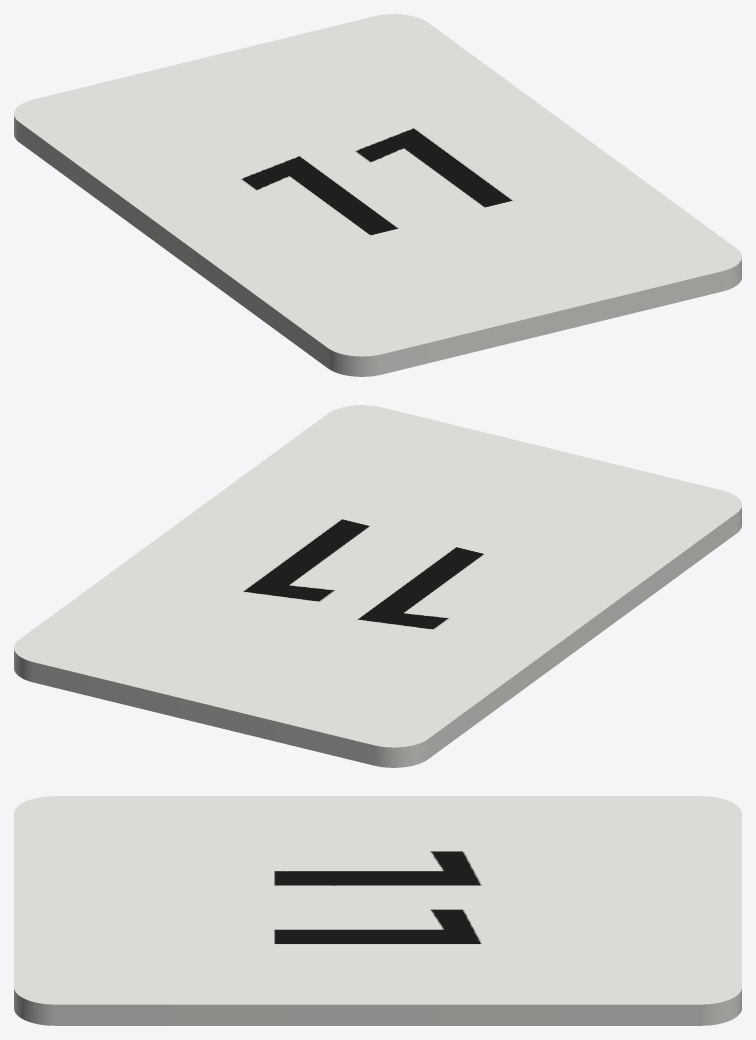
File: white_11.glb
3 renders of one model, top to bottom at view 1: azimuth 30°, elevation 25°; view 2: azimuth 150°, elevation 25°; view 3: azimuth 270°, elevation 25°, orthographic. The views are drawn at different scales.
Visible parts, largest first — view 1: white_11; view 2: white_11; view 3: white_11.
Boxes of the visible parts, x1,y1,x2,y2 form: white_11: (14,14,741,376); white_11: (14,405,741,767); white_11: (14,796,741,1025).
Size of the model in its own units: 0.042 by 0.002 by 0.062.
Materials: 2 (1 with a texture image).
